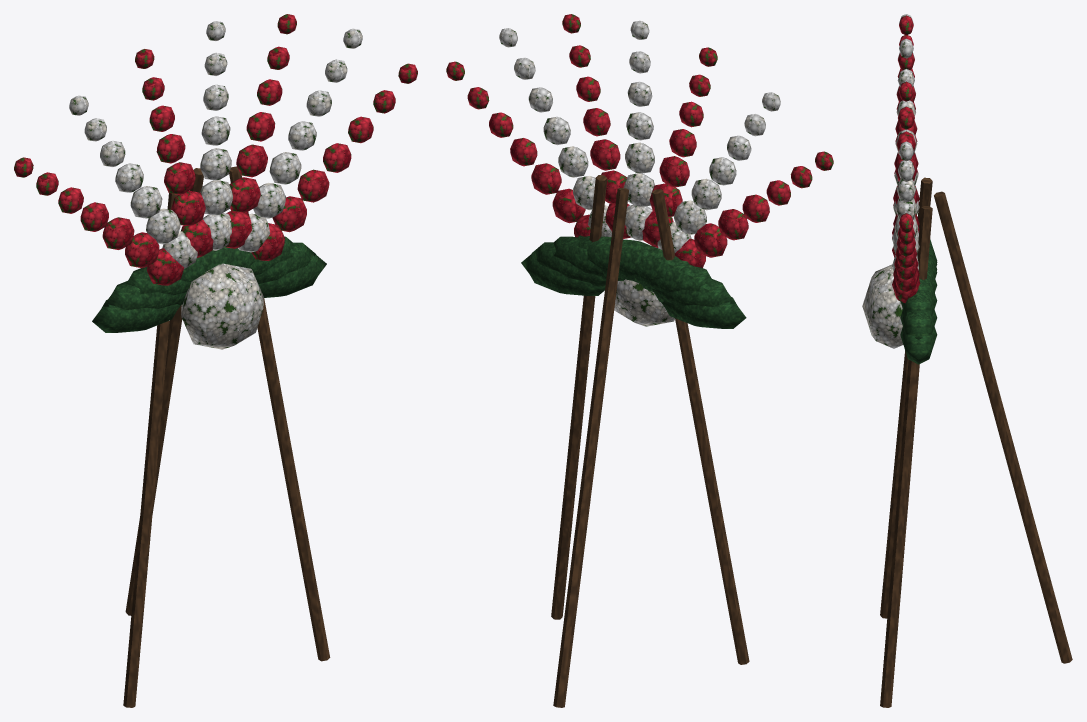
The model's file is corona_gladiolas.obj.
3 renders of one model, left to right at view 1: azimuth 30°, elevation 25°; view 2: azimuth 150°, elevation 25°; view 3: azimuth 270°, elevation 25°, orthographic. The views are drawn at different scales.
Parts seen in each view (by area): view 1: Flores.058, Cylinder, Cylinder.001, Cylinder.002, Flores.049, Flores.050, Flores.057, Flores.056, Flores.001, Flores.015, Flores.008, Flores.022 (+25 smaller); view 2: Cylinder.002, Cylinder, Cylinder.001, Flores.058, Flores.049, Flores.057, Flores.050, Flores.051, Flores.052, Flores.056, Flores.055, Flores.053 (+21 smaller); view 3: Cylinder.002, Cylinder.001, Flores.058, Cylinder, Flores.057, Flores.056, Flores.055, Flores.039.
Part boxes in pixels (bbox=[...]): Flores.058: bbox=[181, 263, 263, 349]; Cylinder: bbox=[123, 193, 178, 707]; Cylinder.001: bbox=[229, 166, 330, 661]; Cylinder.002: bbox=[125, 168, 203, 615]; Flores.049: bbox=[92, 299, 180, 332]; Flores.050: bbox=[103, 281, 186, 310]; Flores.057: bbox=[258, 255, 326, 297]; Flores.056: bbox=[255, 242, 315, 283]; Flores.001: bbox=[125, 232, 159, 268]; Flores.015: bbox=[171, 190, 205, 226]; Flores.008: bbox=[146, 208, 180, 244]; Flores.022: bbox=[200, 180, 232, 215]; Cylinder.002: bbox=[553, 188, 628, 707]; Cylinder: bbox=[652, 189, 749, 664]; Cylinder.001: bbox=[551, 175, 607, 619]; Flores.058: bbox=[614, 247, 674, 326]; Flores.049: bbox=[661, 297, 746, 328]; Flores.057: bbox=[521, 254, 605, 295]; Flores.050: bbox=[652, 279, 735, 307]; Flores.051: bbox=[641, 265, 713, 292]; Flores.052: bbox=[632, 247, 689, 287]; Flores.056: bbox=[531, 242, 605, 286]; Flores.055: bbox=[553, 236, 625, 280]; Flores.053: bbox=[610, 239, 655, 280]; Cylinder.002: bbox=[934, 191, 1072, 663]; Cylinder.001: bbox=[880, 206, 932, 707]; Flores.058: bbox=[862, 264, 903, 348]; Cylinder: bbox=[880, 177, 932, 618]; Flores.057: bbox=[900, 327, 937, 364]; Flores.056: bbox=[900, 309, 937, 339]; Flores.055: bbox=[900, 286, 937, 316]; Flores.039: bbox=[896, 179, 915, 202].
Size of the model in its own units: 1.08 by 1.67 by 0.5106.
4 materials, 4 textured.
